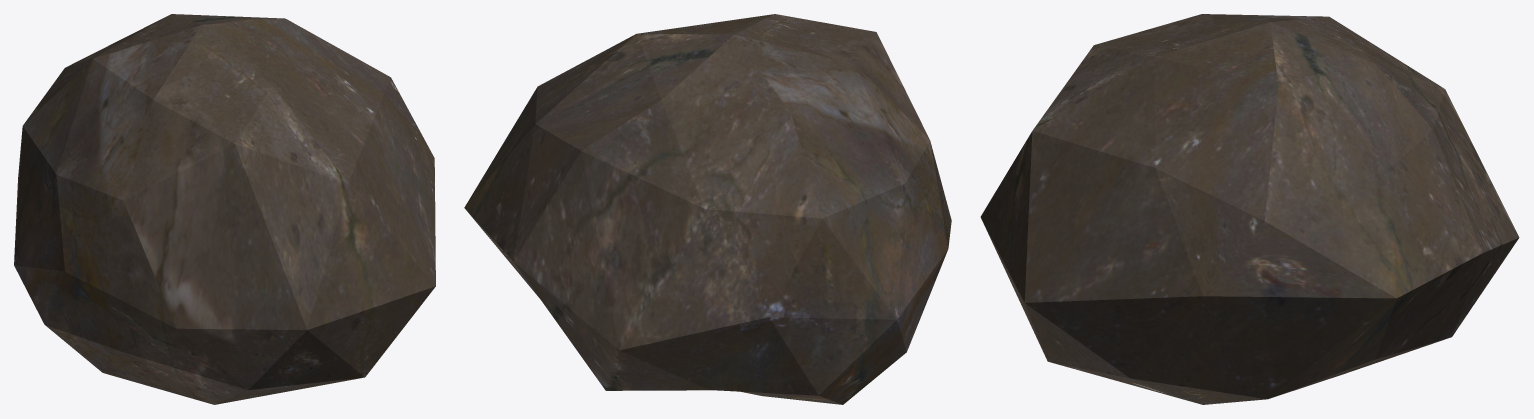
Rendered from rock.gltf.
The picture shows the model from 3 angles, left to right: view 1: azimuth 30°, elevation 25°; view 2: azimuth 150°, elevation 25°; view 3: azimuth 270°, elevation 25°; orthographic projection. The views are drawn at different scales.
Visible parts, largest first — view 1: Icosphere; view 2: Icosphere; view 3: Icosphere.
Part boxes in pixels (x1,y1,x2,y2): Icosphere: (14,14,435,404); Icosphere: (464,14,951,404); Icosphere: (980,14,1519,404).
Size of the model in its own units: 2.23 by 1.92 by 2.64.
Materials: 1 (1 with a texture image).
